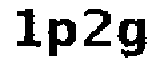1: (15, 7, 43, 51)
2: (81, 4, 115, 52)
g: (118, 14, 151, 60)
p: (45, 15, 78, 60)
